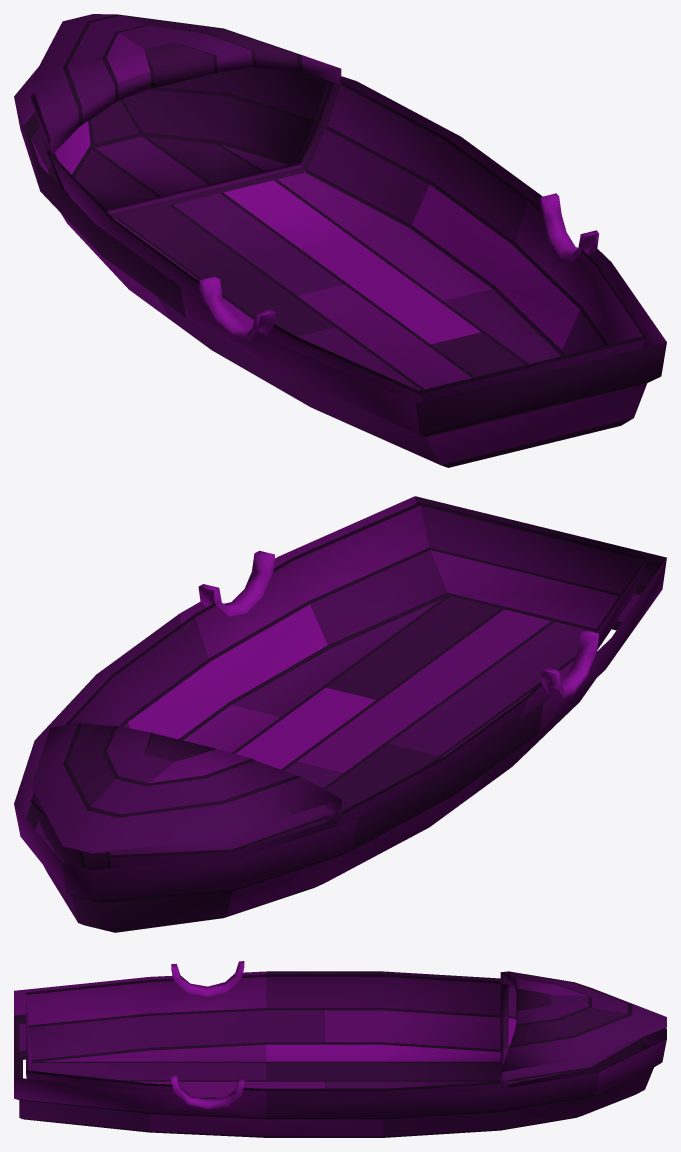
The picture shows the model from 3 angles, top to bottom: view 1: azimuth 30°, elevation 25°; view 2: azimuth 150°, elevation 25°; view 3: azimuth 270°, elevation 25°; orthographic projection. The views are drawn at different scales.
Parts seen in each view (by area): view 1: 58218; view 2: 58218; view 3: 58218.
Part boxes in pixels (<box>): 58218: <box>14,14,666,467</box>; 58218: <box>14,496,666,932</box>; 58218: <box>14,961,666,1137</box>.
Size of the model in its own units: 3.24 by 1.08 by 7.14.
